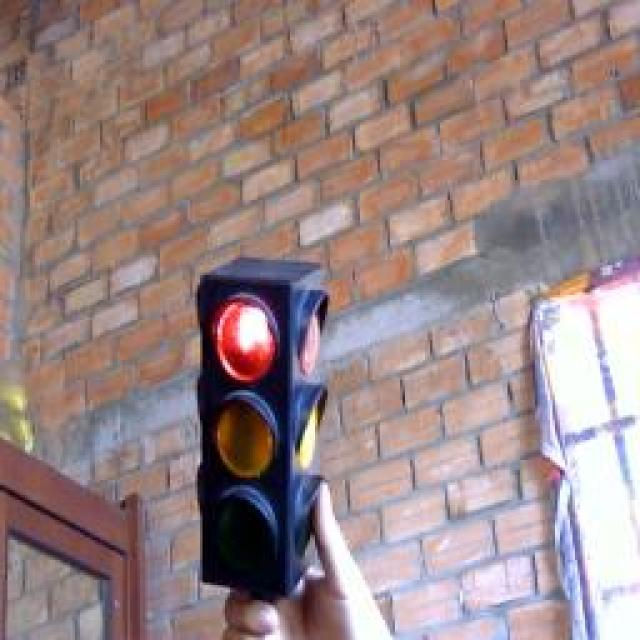-: (204, 279, 294, 389)
